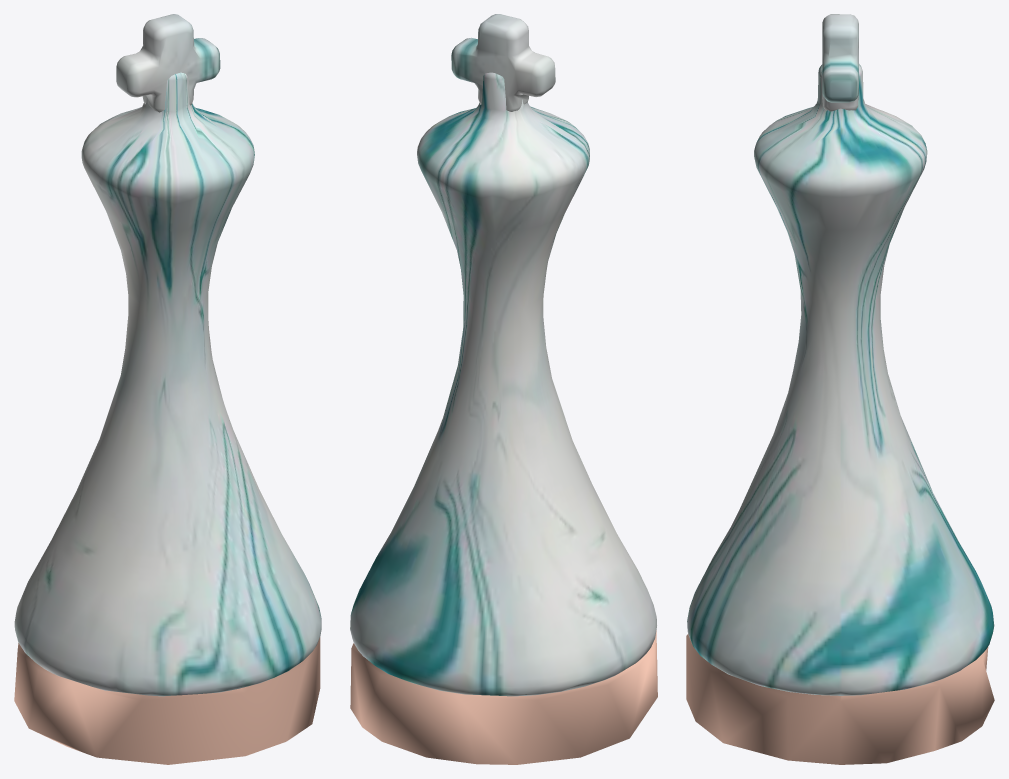
Rendered from kral_bila.glb.
3 views of the same model, side by side, from view 1: azimuth 30°, elevation 25°; view 2: azimuth 150°, elevation 25°; view 3: azimuth 270°, elevation 25° (orthographic).
Parts seen in each view (by area): view 1: kral_bila; view 2: kral_bila; view 3: kral_bila.
Part boxes in pixels (x1,y1,x2,y2): kral_bila: (14,14,321,764); kral_bila: (350,14,657,764); kral_bila: (686,14,994,764).
Bounding box in the file's own units: 0.0578 × 0.1417 × 0.0579.
Materials: 2 (1 with a texture image).
